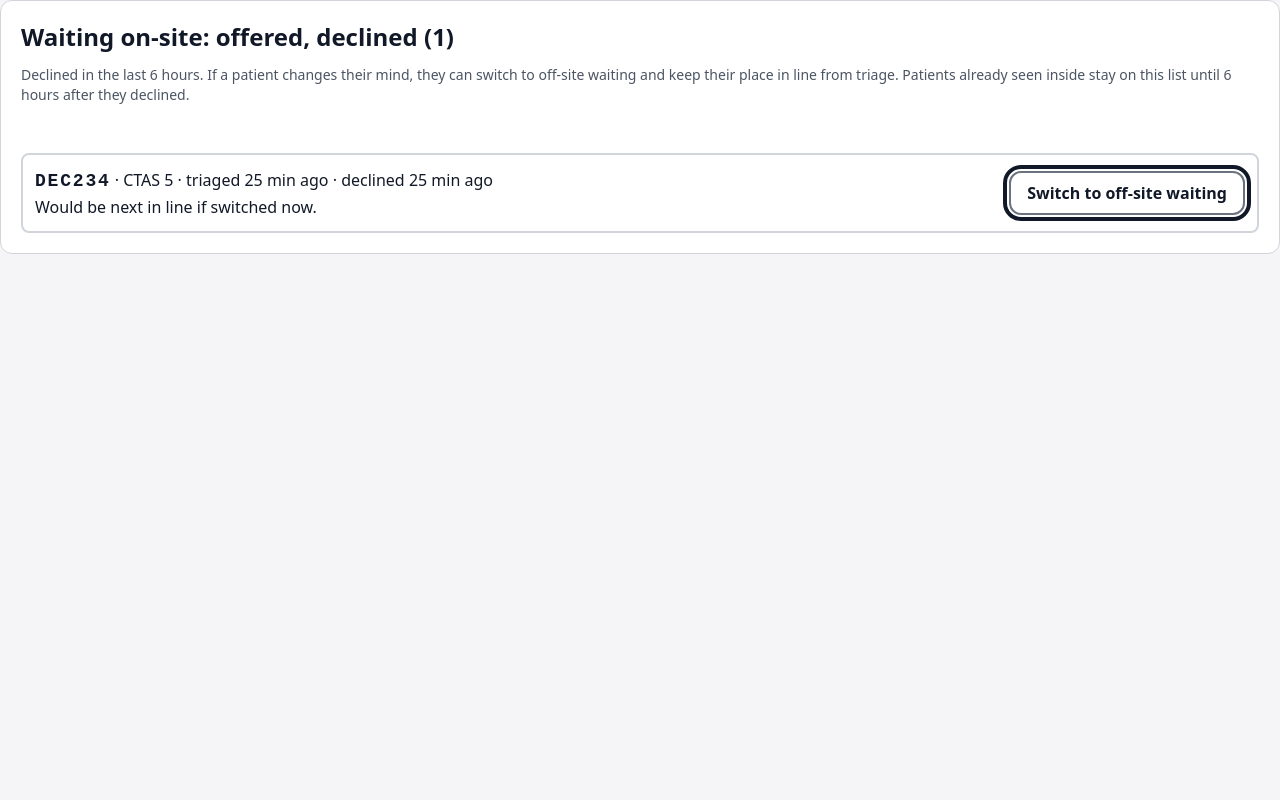
Test: WaitingOnSite › saves nothing until all three checklist items are ticked
The image size is (1280, 800).
Click the button "Switch to off-site waiting" at {"x": 1127, "y": 193}, box [1009,171,1245,215]
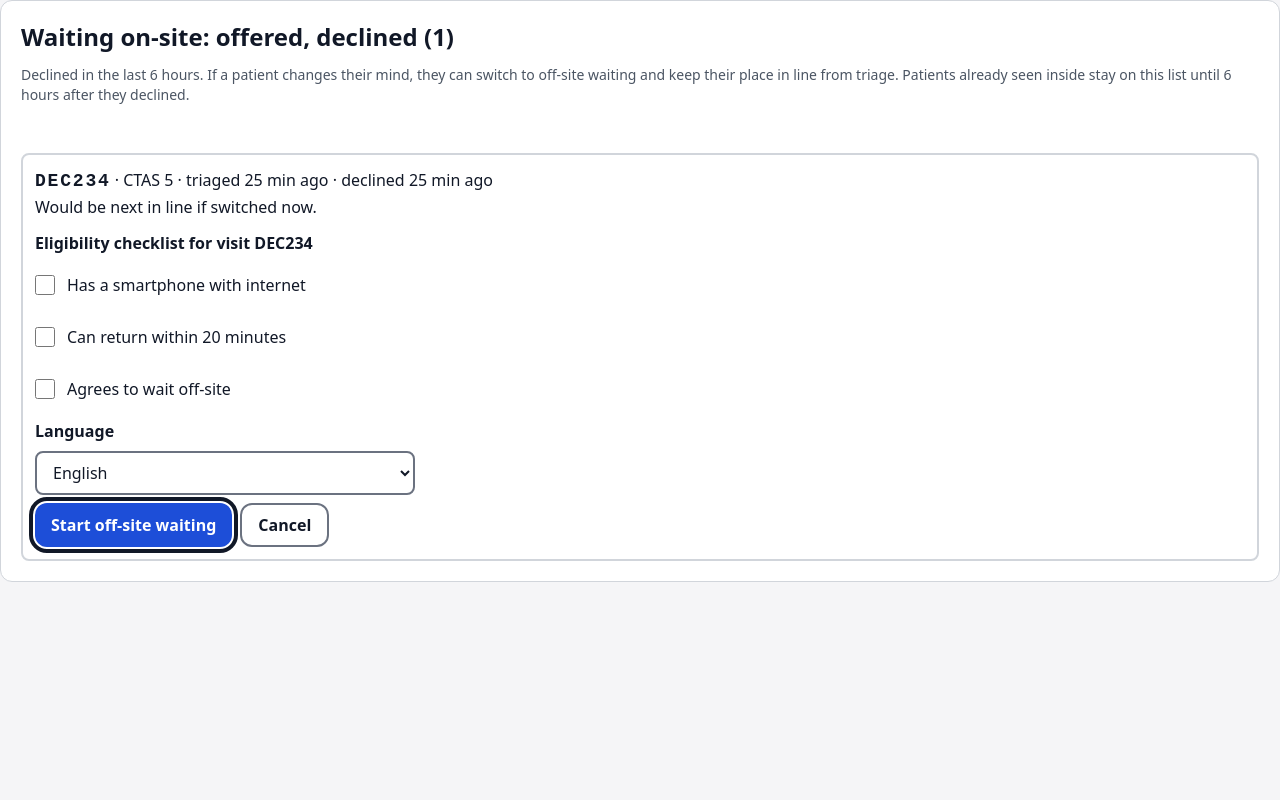
Click the button "Start off-site waiting" at {"x": 134, "y": 525}, box [35,503,232,547]
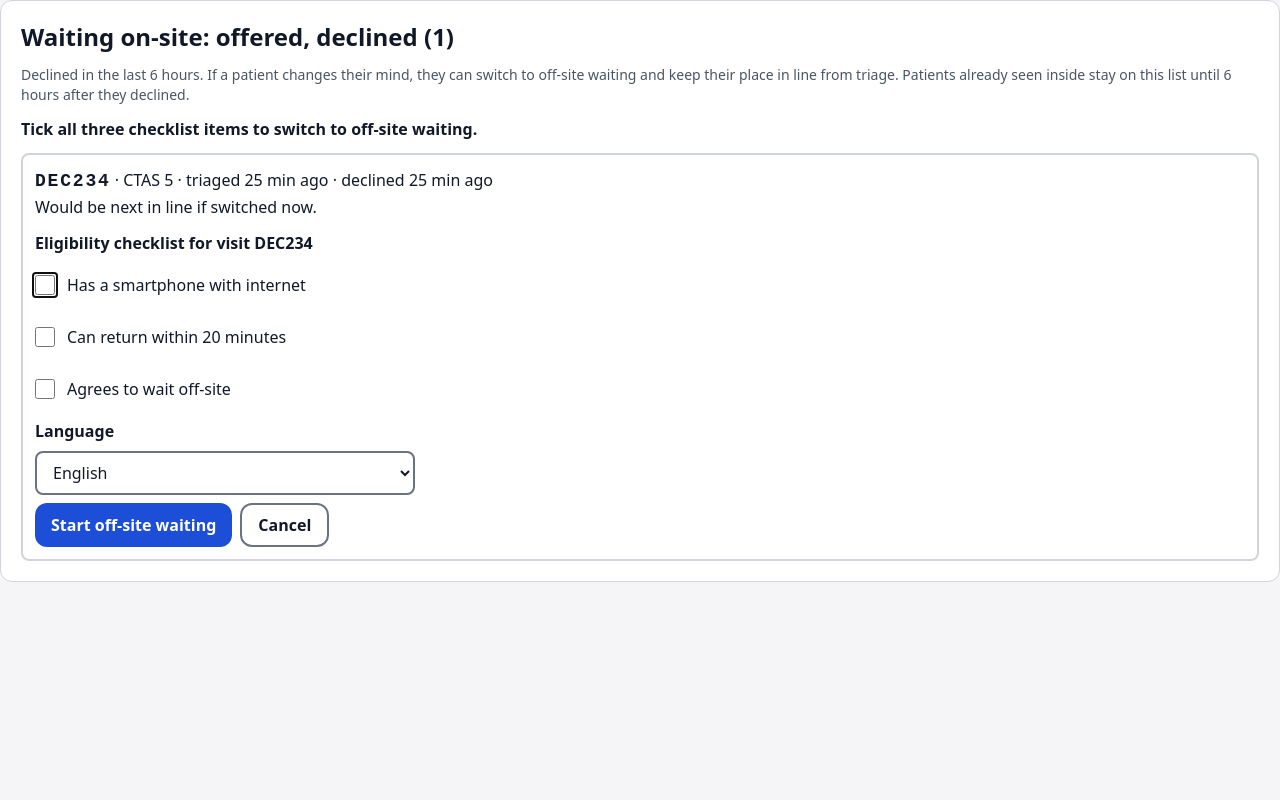
Check: the text "Tick all three checklist items" is shown, box [21,118,477,140]
